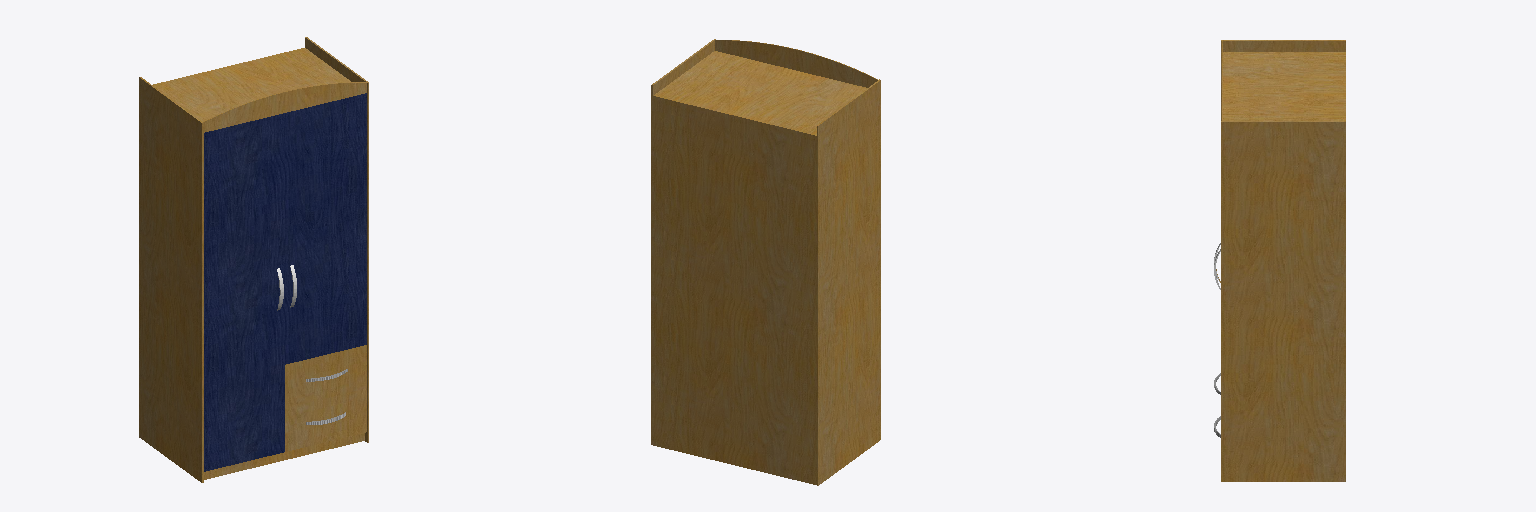
The picture shows the model from 3 angles: view 1: azimuth 30°, elevation 25°; view 2: azimuth 150°, elevation 25°; view 3: azimuth 270°, elevation 25°; orthographic projection.
Visible parts, largest first — view 1: Mesh1 Group1 Model; view 2: Mesh1 Group1 Model; view 3: Mesh1 Group1 Model.
Part boxes in pixels (bbox=[...]): Mesh1 Group1 Model: bbox=[139, 37, 368, 482]; Mesh1 Group1 Model: bbox=[651, 39, 880, 485]; Mesh1 Group1 Model: bbox=[1221, 40, 1345, 481].
Size of the model in its own units: 39.37 by 83.46 by 26.97.
5 materials, 4 textured.